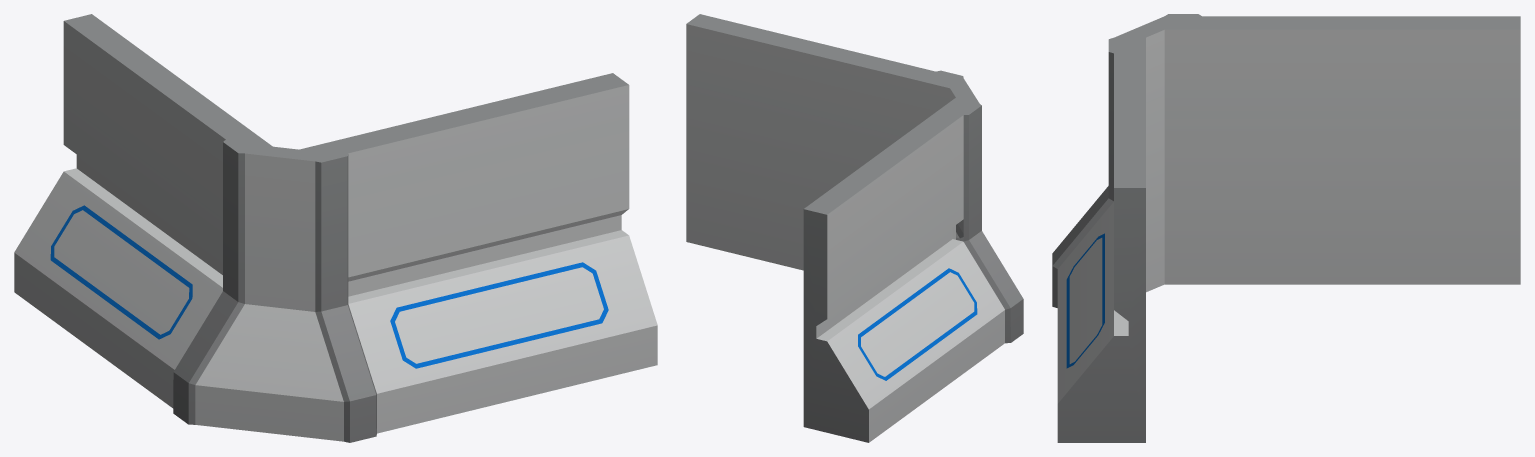
File: Wall_type_A_026.fbx
The picture shows the model from 3 angles, left to right: view 1: azimuth 30°, elevation 25°; view 2: azimuth 150°, elevation 25°; view 3: azimuth 270°, elevation 25°; orthographic projection. The views are drawn at different scales.
Parts seen in each view (by area): view 1: Wall_type_A_026; view 2: Wall_type_A_026; view 3: Wall_type_A_026.
Boxes of the visible parts, box(x1,y1,x2,y2) form: Wall_type_A_026: box(14, 14, 657, 442); Wall_type_A_026: box(686, 14, 1023, 442); Wall_type_A_026: box(1052, 14, 1520, 442).
Size of the model in its own units: 250 by 250 by 150.
